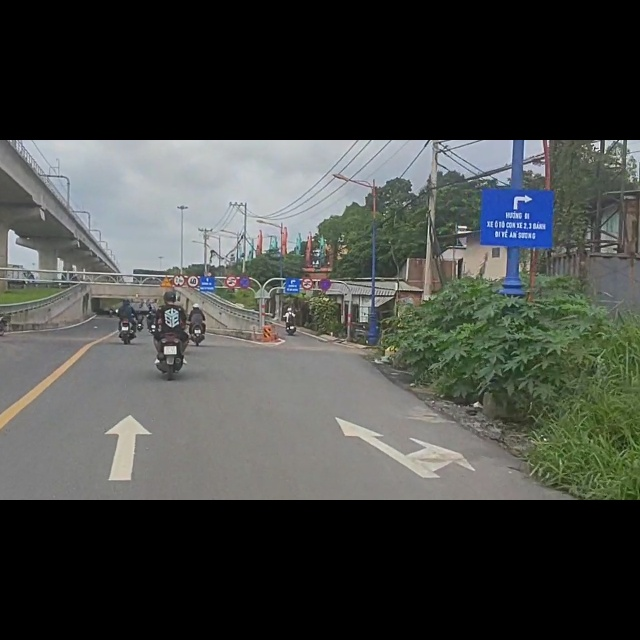bien_nguy_hiem: (301, 244, 314, 268), (319, 244, 332, 268), (239, 242, 252, 265), (225, 241, 238, 263), (173, 238, 185, 261), (187, 241, 199, 263)
